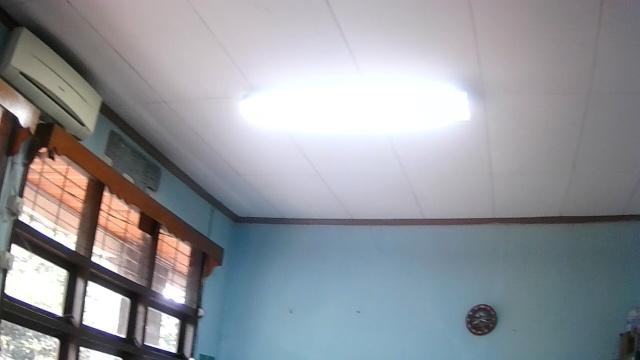AC: (0, 25, 103, 142)
